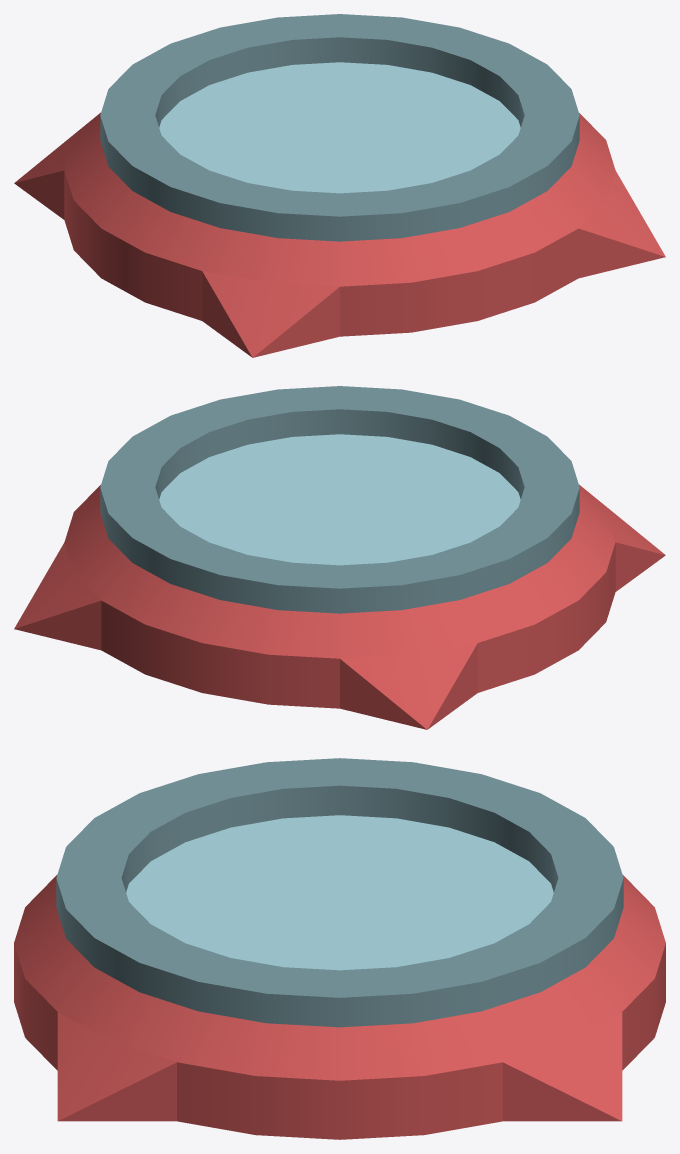
The model's file is towerround_base.fbx.
The picture shows the model from 3 angles, top to bottom: view 1: azimuth 30°, elevation 25°; view 2: azimuth 150°, elevation 25°; view 3: azimuth 270°, elevation 25°; orthographic projection. The views are drawn at different scales.
Parts seen in each view (by area): view 1: towerRound_base; view 2: towerRound_base; view 3: towerRound_base.
Boxes of the visible parts, left/top/right/bottom form: towerRound_base: left=14, top=14, right=665, bottom=357; towerRound_base: left=14, top=386, right=665, bottom=729; towerRound_base: left=14, top=758, right=665, bottom=1139.
Size of the model in its own units: 10 by 2.1 by 10.
